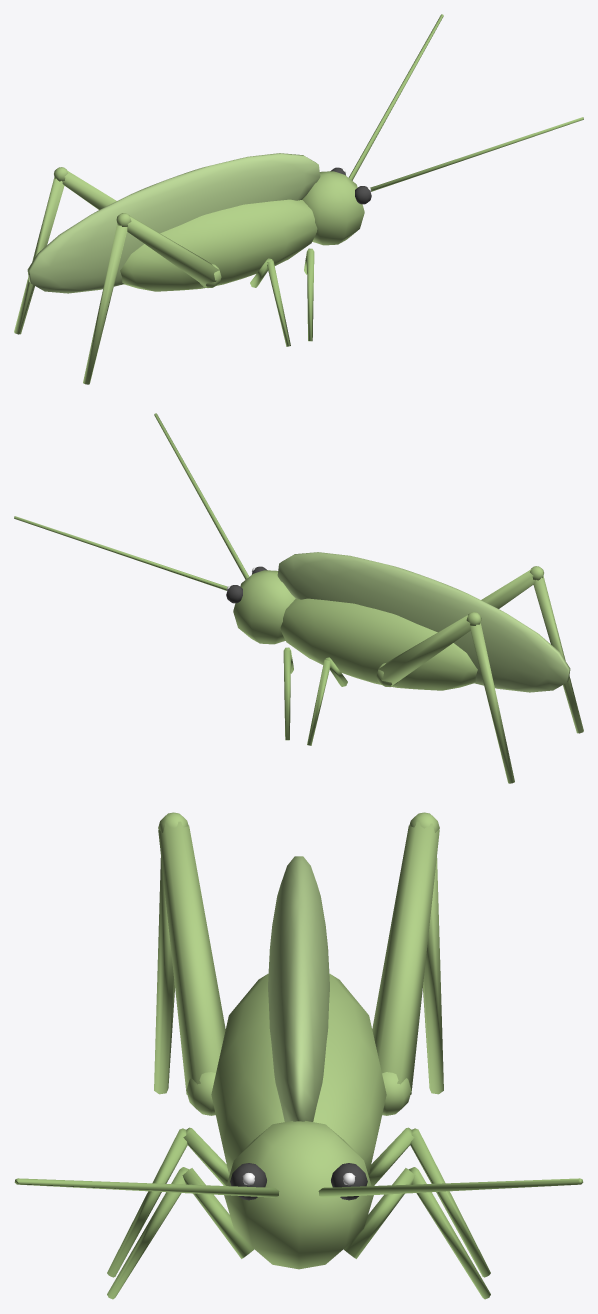
The model's file is lanyu-giant-katydid.glb.
3 views of the same model, one above another, from view 1: azimuth 30°, elevation 25°; view 2: azimuth 150°, elevation 25°; view 3: azimuth 270°, elevation 25° (orthographic). The views are drawn at different scales.
Parts seen in each view (by area): view 1: e; view 2: e; view 3: e.
Part boxes in pixels (x1,y1,x2,y2): e: (14,14,583,384); e: (14,413,583,783); e: (14,812,583,1299).
Bounding box in the file's own units: 0.9835 × 0.3513 × 0.4994.
